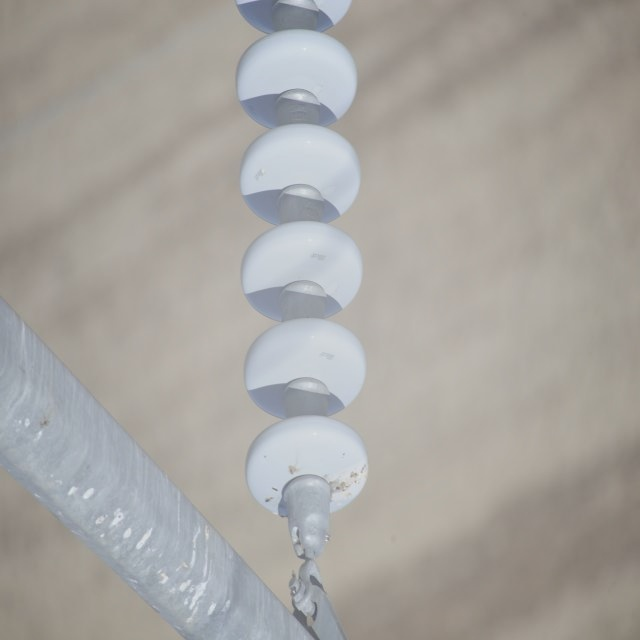insulator: (234, 0, 370, 518)
